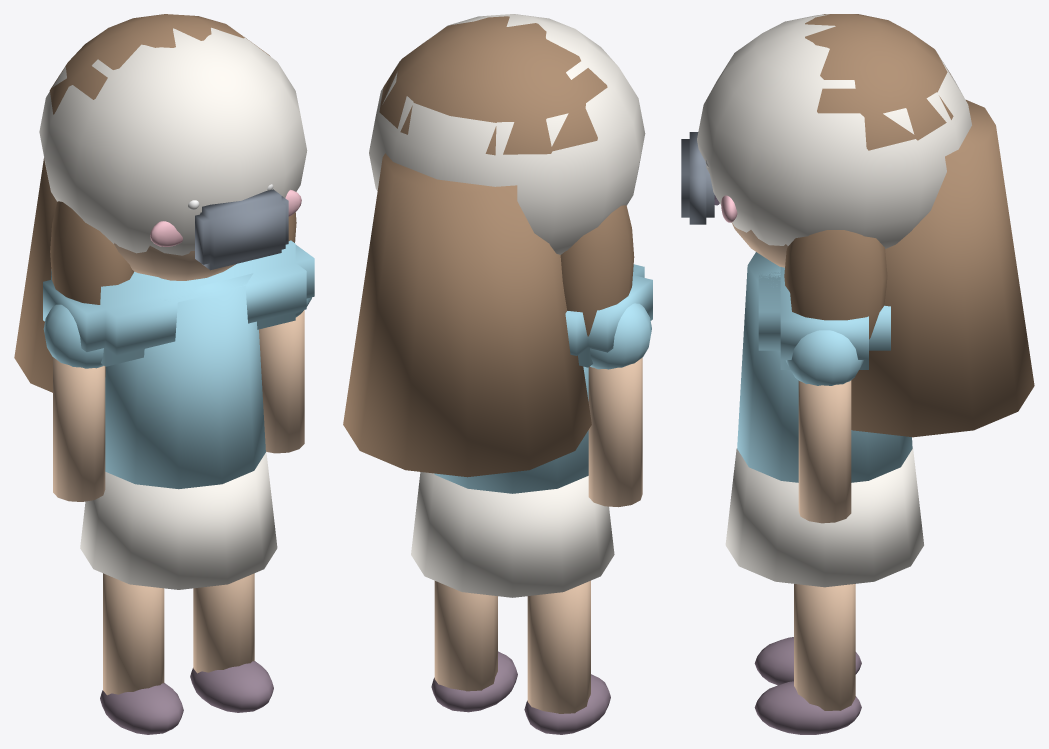
The model's file is Char_FutebolAmericano.fbx.
The picture shows the model from 3 angles, left to right: view 1: azimuth 30°, elevation 25°; view 2: azimuth 150°, elevation 25°; view 3: azimuth 270°, elevation 25°; orthographic projection. The views are drawn at different scales.
Parts seen in each view (by area): view 1: Char_FutebolAmericano; view 2: Char_FutebolAmericano; view 3: Char_FutebolAmericano.
Part boxes in pixels (bbox=[...]): Char_FutebolAmericano: bbox=[14, 14, 314, 734]; Char_FutebolAmericano: bbox=[343, 14, 652, 734]; Char_FutebolAmericano: bbox=[681, 14, 1034, 734].
Bounding box in the file's own units: 0.6314 × 1.58 × 0.7424.
